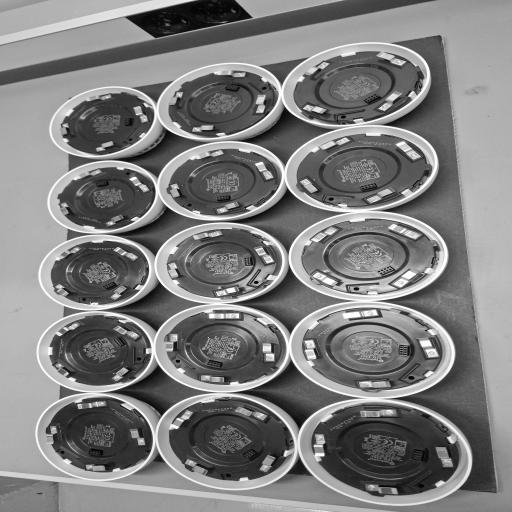konnektor: (375, 265, 398, 277), (241, 448, 260, 461), (396, 343, 412, 358), (410, 450, 428, 463), (111, 336, 130, 348), (222, 83, 244, 93), (204, 360, 226, 368), (363, 95, 381, 104), (86, 449, 108, 456), (100, 281, 116, 290), (214, 193, 232, 201), (94, 180, 112, 188), (122, 116, 134, 128), (358, 183, 378, 190), (242, 256, 253, 268)
yaysiz: (414, 334, 444, 365), (433, 442, 460, 475), (384, 223, 425, 243), (393, 140, 424, 164), (392, 267, 422, 288), (373, 50, 407, 68), (366, 187, 398, 205), (183, 458, 215, 476), (308, 226, 338, 245), (356, 408, 398, 421), (316, 136, 350, 152), (303, 60, 330, 80), (379, 90, 404, 111), (364, 483, 404, 496), (234, 405, 268, 420), (337, 309, 379, 321), (127, 174, 152, 194), (298, 178, 325, 196), (170, 410, 194, 430), (312, 272, 343, 287), (112, 324, 141, 340), (313, 434, 330, 460), (258, 452, 279, 473), (164, 90, 186, 110), (253, 162, 275, 182), (54, 322, 81, 338), (128, 426, 148, 447), (52, 362, 76, 379), (112, 246, 139, 261), (252, 245, 274, 263), (214, 200, 242, 214), (188, 230, 223, 241), (192, 148, 224, 160), (132, 105, 152, 124), (209, 69, 247, 79), (358, 380, 396, 390), (165, 182, 186, 200), (55, 246, 82, 260), (112, 364, 133, 382), (45, 425, 63, 446), (72, 168, 101, 181), (262, 341, 278, 364), (252, 94, 270, 114), (168, 262, 186, 282), (74, 400, 106, 411), (216, 284, 245, 296), (304, 340, 321, 360), (302, 104, 330, 116), (166, 334, 182, 354), (94, 140, 118, 153), (202, 312, 241, 320), (85, 462, 116, 472), (53, 284, 75, 298), (110, 285, 132, 299), (190, 124, 219, 134), (200, 374, 229, 384), (59, 202, 77, 218), (106, 215, 130, 227), (83, 93, 114, 102), (60, 122, 70, 138)
